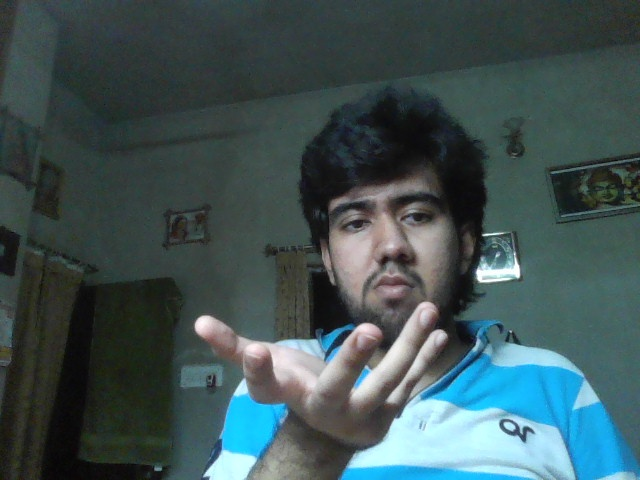What: (195, 301, 450, 448)
